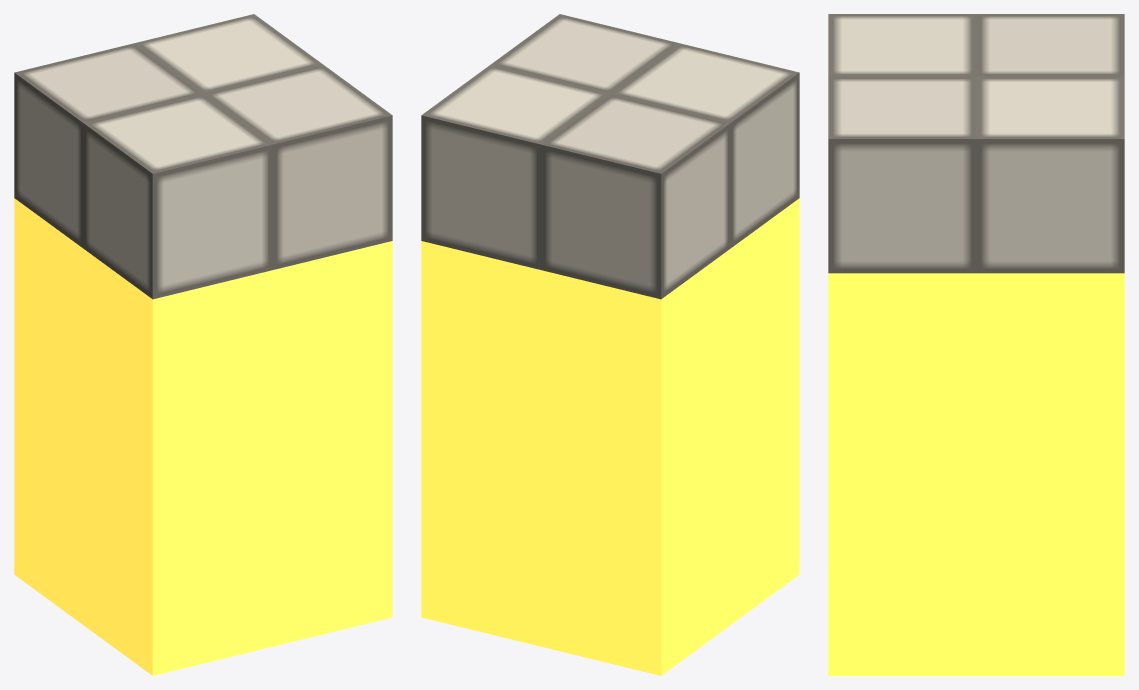
File: beer_glass.glb
3 renders of one model, left to right at view 1: azimuth 30°, elevation 25°; view 2: azimuth 150°, elevation 25°; view 3: azimuth 270°, elevation 25°, orthographic. The views are drawn at different scales.
Parts seen in each view (by area): view 1: beer_glass; view 2: beer_glass; view 3: beer_glass.
Part boxes in pixels (box(x1,y1,x2,y2)): beer_glass: box(14, 14, 392, 675); beer_glass: box(421, 14, 799, 675); beer_glass: box(828, 14, 1124, 675).
Size of the model in its own units: 0.1 by 0.2 by 0.1.
Materials: 2 (1 with a texture image).
